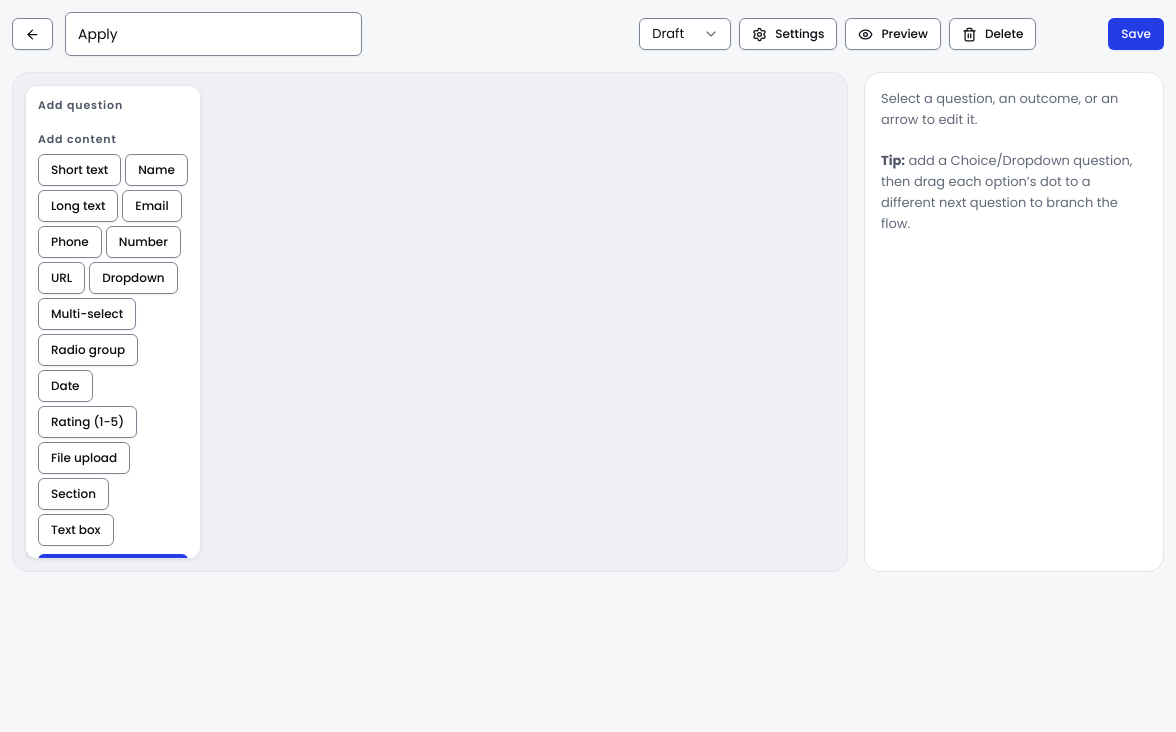
Test case: FormBuilder, branches › will not save a branch for an option that no longer exists
Click the button "Save" at (1136, 34), box [1108,18,1164,50]
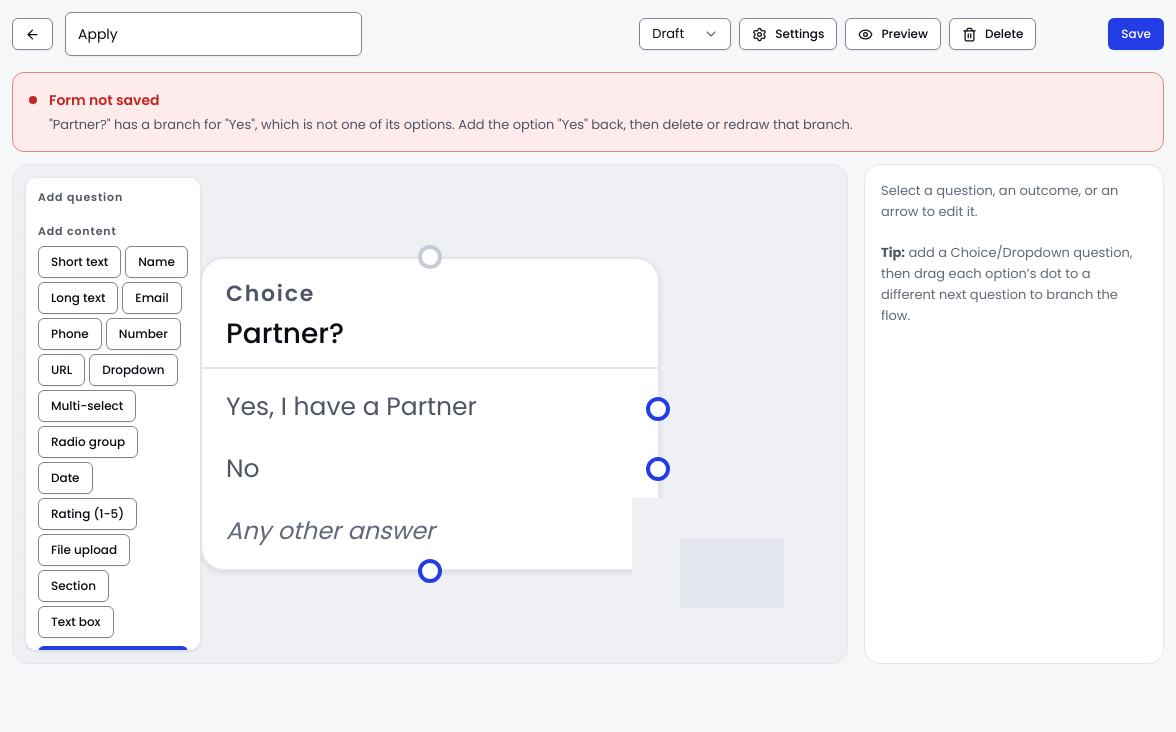
Expected: the text "\"Partner?\" has a branch for \"Yes\"" is shown, [49,115,853,134]
